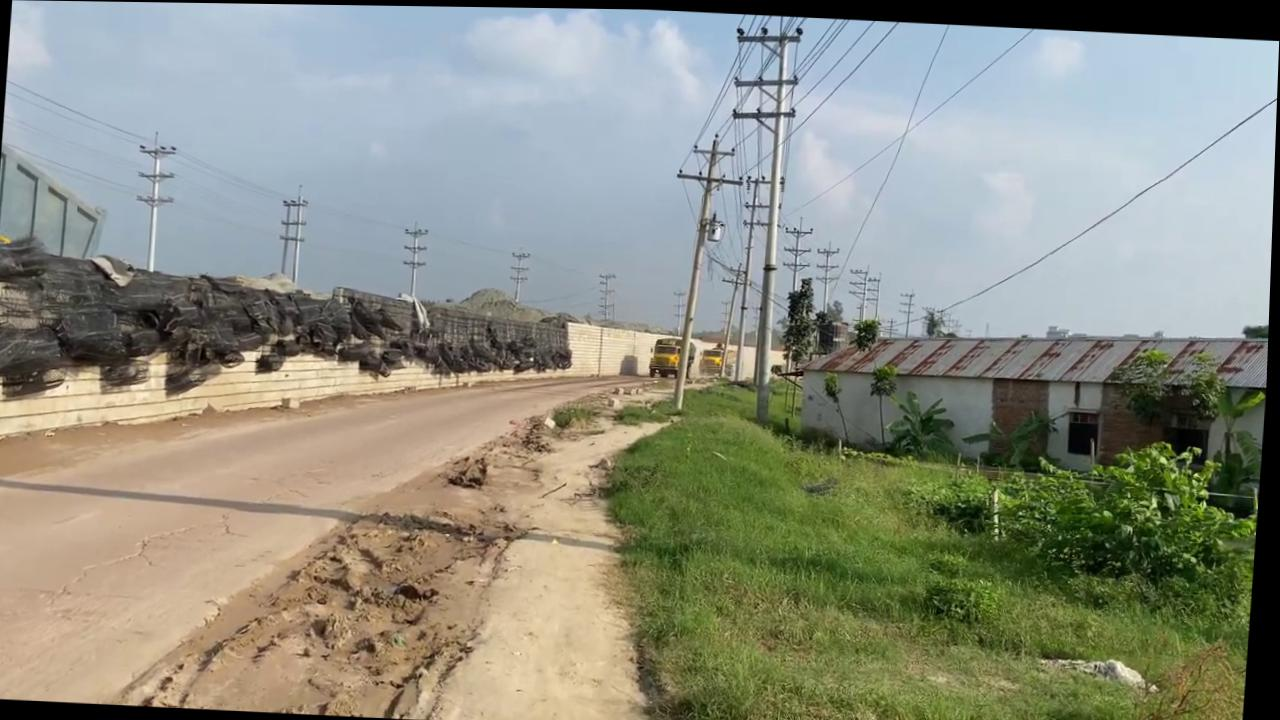Garbage: (0, 231, 582, 412)
Muddy road: (0, 337, 696, 720)
Pole: (664, 128, 738, 411), (751, 23, 801, 423)
Traffic-sign: (781, 273, 820, 366), (867, 358, 901, 445)
Tree: (650, 333, 699, 378), (700, 339, 737, 374)
